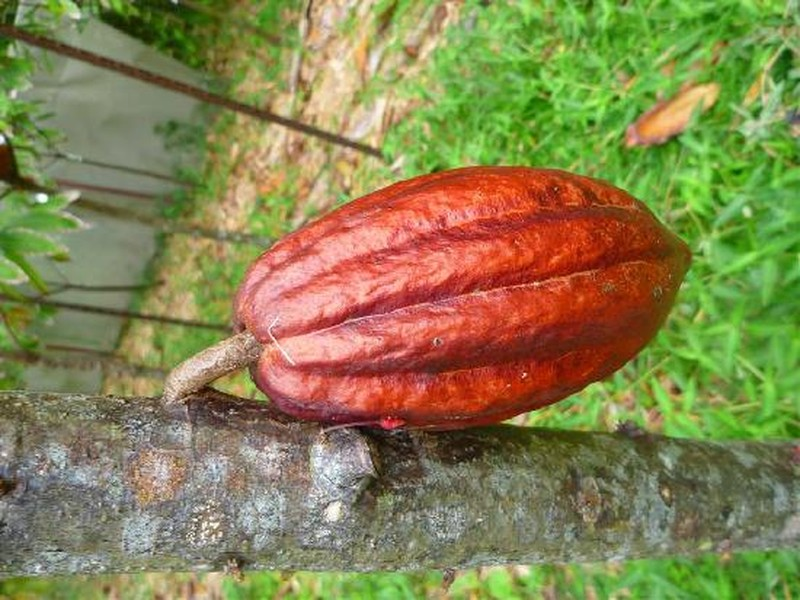Cacaopod: (228, 161, 696, 432)
